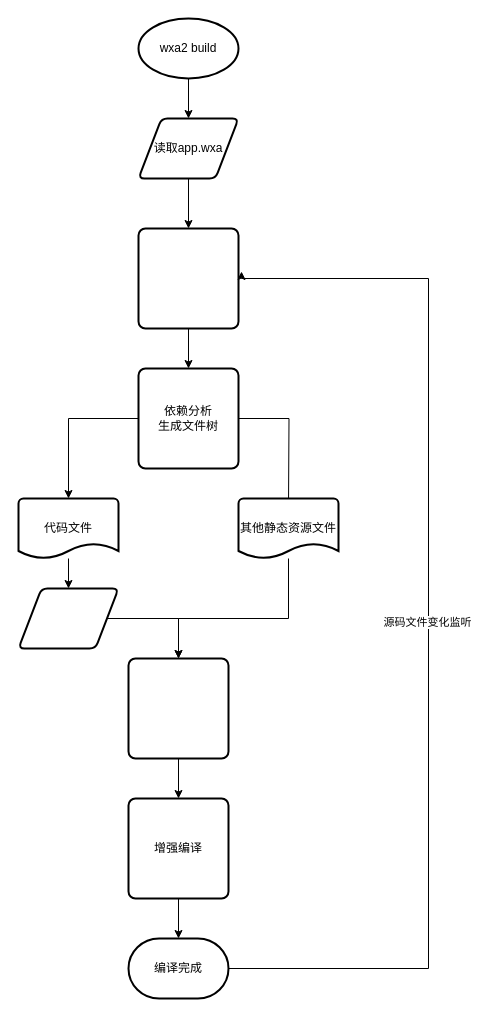
This 488x1016 diagram has some shape labels left out. Each missing label, with the centre of its shape:
"ast树" goes at pixel 68 618.
"loader处理" goes at pixel 188 278.
"插件系统" goes at pixel 178 708.
